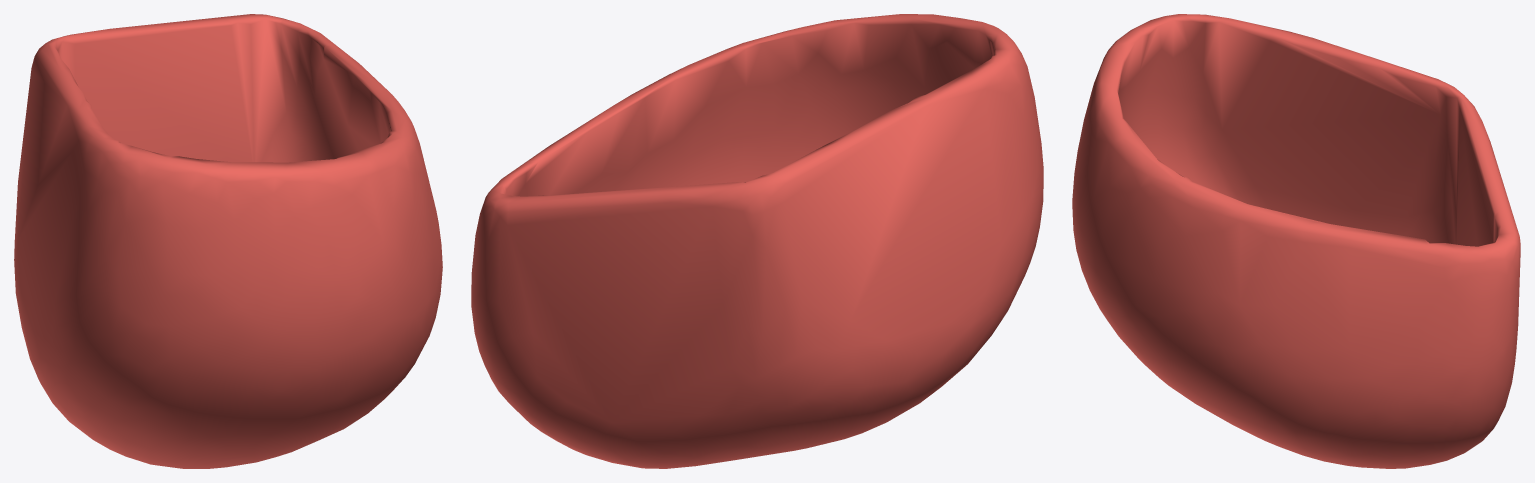
3 views of the same model, side by side, from view 1: azimuth 30°, elevation 25°; view 2: azimuth 150°, elevation 25°; view 3: azimuth 270°, elevation 25° (orthographic). The views are drawn at different scales.
Parts seen in each view (by area): view 1: Anterior semilunar leaflet of pulmonary valve.008; view 2: Anterior semilunar leaflet of pulmonary valve.008; view 3: Anterior semilunar leaflet of pulmonary valve.008.
Part boxes in pixels (x1,y1,x2,y2): Anterior semilunar leaflet of pulmonary valve.008: [14, 14, 442, 468]; Anterior semilunar leaflet of pulmonary valve.008: [471, 14, 1043, 468]; Anterior semilunar leaflet of pulmonary valve.008: [1072, 14, 1520, 468].
Size of the model in its own units: 0.5933 by 0.5195 by 0.6239.
